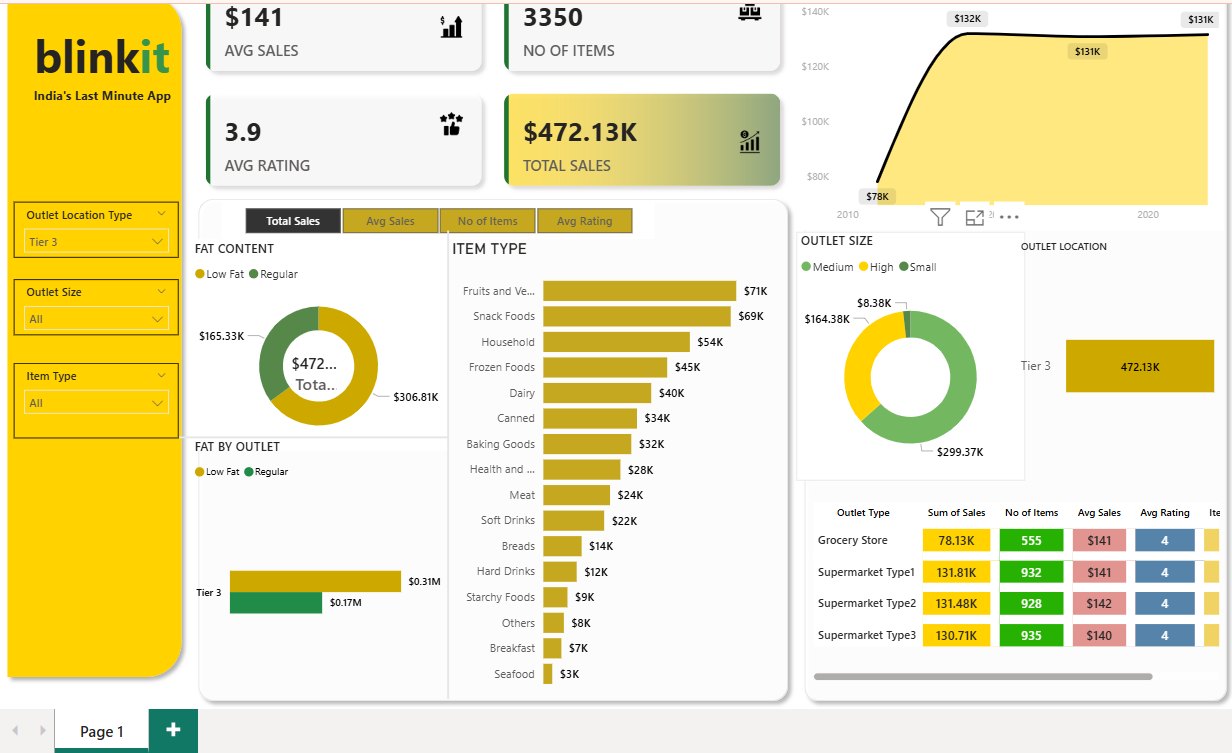

What the dashboard file says about the page in this screenshot:
{"tool":"powerbi","page":{"name":"Page 1","canvas":[1400,800],"ordinal":0},"visuals":[{"type":"shape","box":[73.7,25.5,205.1,749.3],"z":0},{"type":"textbox","box":[73.7,127.3,222.5,52.3],"z":1000},{"type":"textbox","box":[89.8,61.7,189,84.5],"z":2000},{"type":"actionButton","box":[0,0,100,40],"z":3000},{"type":"cardVisual","fields":{"Data":["BlinkIT Grocery Data.Avg Sales","BlinkIT Grocery Data.No of Items","BlinkIT Grocery Data.Avg Rating","BlinkIT Grocery Data.Total Sales"]},"box":[278.8,0,650.1,256],"z":4000},{"type":"shape","box":[278.8,244,650.1,556.3],"z":5000},{"type":"donutChart","title":" FAT CONTENT","fields":{"Y":["BlinkIT Grocery Data.Total Sales"],"Category":["BlinkIT Grocery Data.Item Fat Content"]},"box":[278.8,296.2,276.1,226.5],"z":6000},{"type":"slicer","fields":{"Values":["Metrics.Metrics"]},"box":[312.3,256,465.1,40.2],"z":7000},{"type":"cardVisual","fields":{"Data":["BlinkIT Grocery Data.Total Sales"]},"box":[368.6,400.8,84.5,72.4],"z":8000},{"type":"clusteredBarChart","title":"FAT BY OUTLET","fields":{"Y":["BlinkIT Grocery Data.Total Sales"],"Category":["BlinkIT Grocery Data.Outlet Location Type"],"Series":["BlinkIT Grocery Data.Item Fat Content"]},"box":[278.8,509.4,276.1,280.2],"z":9000},{"type":"shape","box":[264.1,494.6,290.9,28.2],"z":10000},{"type":"shape","box":[545.6,286.9,20.1,502.7],"z":11000},{"type":"barChart","title":"ITEM TYPE","fields":{"Y":["BlinkIT Grocery Data.Total Sales"],"Category":["BlinkIT Grocery Data.Item Type"]},"box":[555,296.2,361.9,493.3],"z":12000},{"type":"shape","box":[929,10.7,470.5,789.5],"z":13000},{"type":"lineChart","title":"OUTLET ESTABLISHMENT","fields":{"Category":["BlinkIT Grocery Data.Outlet Establishment Year"],"Y":["BlinkIT Grocery Data.Total Sales"]},"box":[929,20.1,458.4,266.8],"z":14000},{"type":"donutChart","title":"OUTLET SIZE","fields":{"Y":["BlinkIT Grocery Data.Total Sales"],"Category":["BlinkIT Grocery Data.Outlet Size"]},"box":[929,288.2,245.3,266.8],"z":15000},{"type":"funnel","title":"OUTLET LOCATION","fields":{"Y":["Sum(BlinkIT Grocery Data.Sales)"],"Category":["BlinkIT Grocery Data.Outlet Location Type"]},"box":[1164.9,296.2,222.5,258.7],"z":16000},{"type":"pivotTable","fields":{"Rows":["BlinkIT Grocery Data.Outlet Type"],"Values":["Sum(BlinkIT Grocery Data.Sales)","BlinkIT Grocery Data.No of Items","BlinkIT Grocery Data.Avg Sales","BlinkIT Grocery Data.Avg Rating","Sum(BlinkIT Grocery Data.Item Visibility)"]},"box":[942.4,573.7,445,201.1],"z":17000},{"type":"slicer","fields":{"Values":["BlinkIT Grocery Data.Outlet Location Type"]},"box":[89.8,256,176.9,60.3],"z":18000},{"type":"slicer","fields":{"Values":["BlinkIT Grocery Data.Outlet Size"]},"box":[89.8,339.1,176.9,60.3],"z":19000},{"type":"slicer","fields":{"Values":["BlinkIT Grocery Data.Item Type"]},"box":[89.8,429,176.9,80.4],"z":20000}]}

Visuals, with their boxes on the page's 1400x800 design canvas (x1, y1, x2, y2). These are canvas units, not pixel positions in the 1232x753 screenshot, which may show the page scaled, cropped or inside an application window:
shape: BBox(74, 26, 279, 775)
textbox: BBox(74, 127, 296, 180)
textbox: BBox(90, 62, 279, 146)
actionButton: BBox(0, 0, 100, 40)
cardVisual - BlinkIT Grocery Data.Avg Sales x BlinkIT Grocery Data.No of Items: BBox(279, 0, 929, 256)
shape: BBox(279, 244, 929, 800)
" FAT CONTENT" donutChart: BBox(279, 296, 555, 523)
slicer - Metrics.Metrics: BBox(312, 256, 777, 296)
cardVisual - BlinkIT Grocery Data.Total Sales: BBox(369, 401, 453, 473)
"FAT BY OUTLET" clusteredBarChart: BBox(279, 509, 555, 790)
shape: BBox(264, 495, 555, 523)
shape: BBox(546, 287, 566, 790)
"ITEM TYPE" barChart: BBox(555, 296, 917, 790)
shape: BBox(929, 11, 1400, 800)
"OUTLET ESTABLISHMENT" lineChart: BBox(929, 20, 1387, 287)
"OUTLET SIZE" donutChart: BBox(929, 288, 1174, 555)
"OUTLET LOCATION" funnel: BBox(1165, 296, 1387, 555)
pivotTable - BlinkIT Grocery Data.Outlet Type x Sum(BlinkIT Grocery Data.Sales): BBox(942, 574, 1387, 775)
slicer - BlinkIT Grocery Data.Outlet Location Type: BBox(90, 256, 267, 316)
slicer - BlinkIT Grocery Data.Outlet Size: BBox(90, 339, 267, 399)
slicer - BlinkIT Grocery Data.Item Type: BBox(90, 429, 267, 509)
